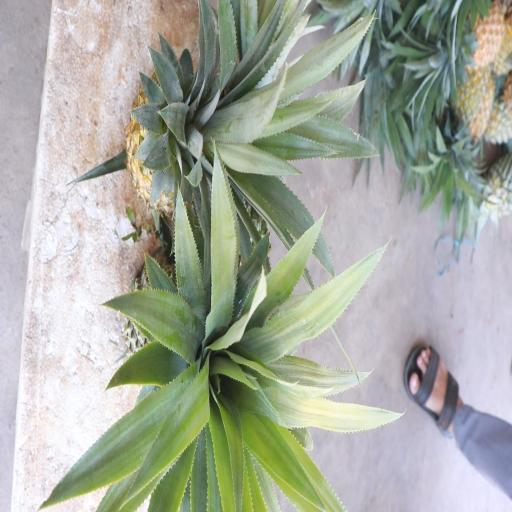Pineapple - v8 v1: (120, 54, 246, 219)
